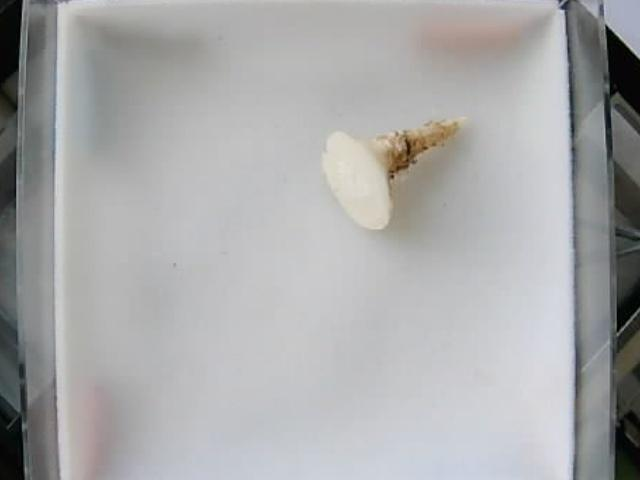Mooli: (322, 116, 468, 233)
